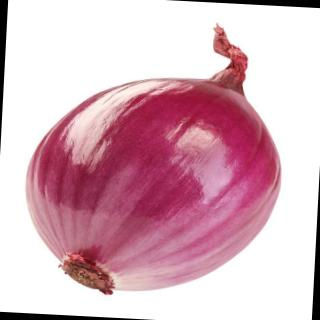Bawang Merah: (19, 11, 292, 306)
